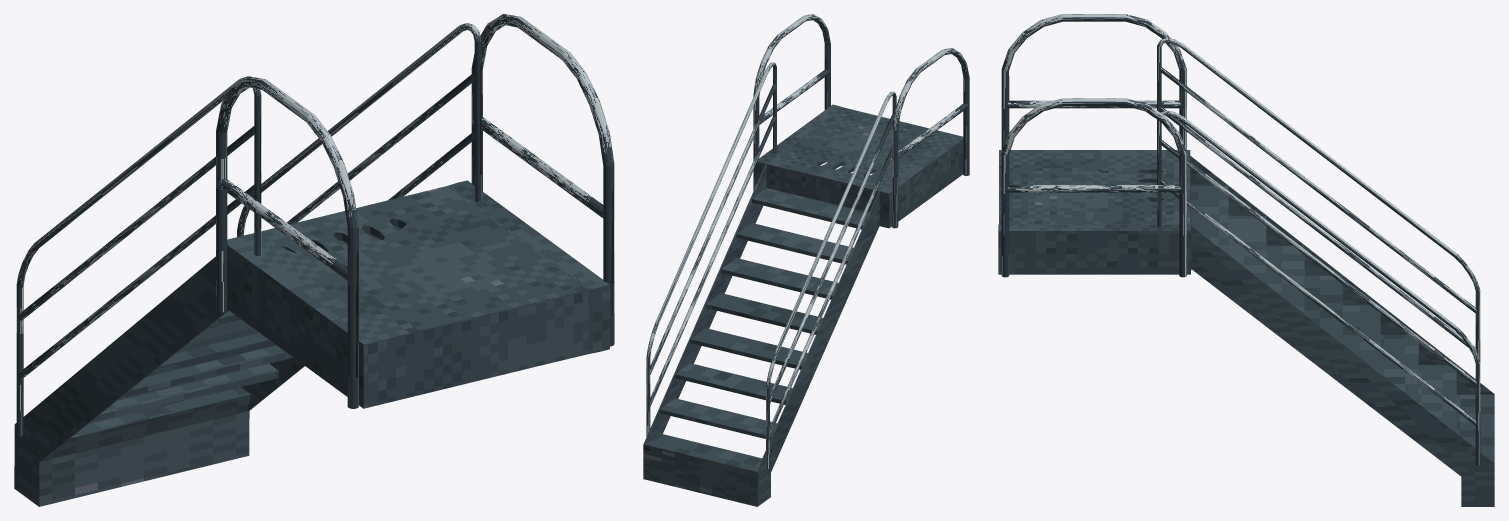
File: catStairs.fbx
3 renders of one model, left to right at view 1: azimuth 30°, elevation 25°; view 2: azimuth 150°, elevation 25°; view 3: azimuth 270°, elevation 25°, orthographic. The views are drawn at different scales.
Visible parts, largest first — view 1: catStair, catTopStairRail.001, catStairRail.001, catTopStairRail, catStairRail; view 2: catStair, catStairRail, catStairRail.001, catTopStairRail.001, catTopStairRail; view 3: catStair, catStairRail, catStairRail.001, catTopStairRail, catTopStairRail.001.
Part boxes in pixels (x1,y1,x2,y2): catStair: (14, 180, 609, 506); catTopStairRail.001: (216, 76, 358, 408); catStairRail.001: (16, 76, 261, 436); catTopStairRail: (471, 14, 614, 346); catStairRail: (237, 23, 481, 236); catStair: (643, 104, 963, 506); catStairRail: (646, 62, 776, 436); catStairRail.001: (766, 91, 896, 468); catTopStairRail.001: (892, 48, 969, 228); catTopStairRail: (753, 14, 830, 190); catStair: (998, 150, 1494, 506); catStairRail: (1157, 110, 1480, 465); catStairRail.001: (1157, 38, 1480, 361); catTopStairRail: (1001, 98, 1186, 277); catTopStairRail.001: (1001, 14, 1186, 149).
Size of the model in its own units: 216 by 518 by 479.
Materials: 2 (2 with a texture image).
